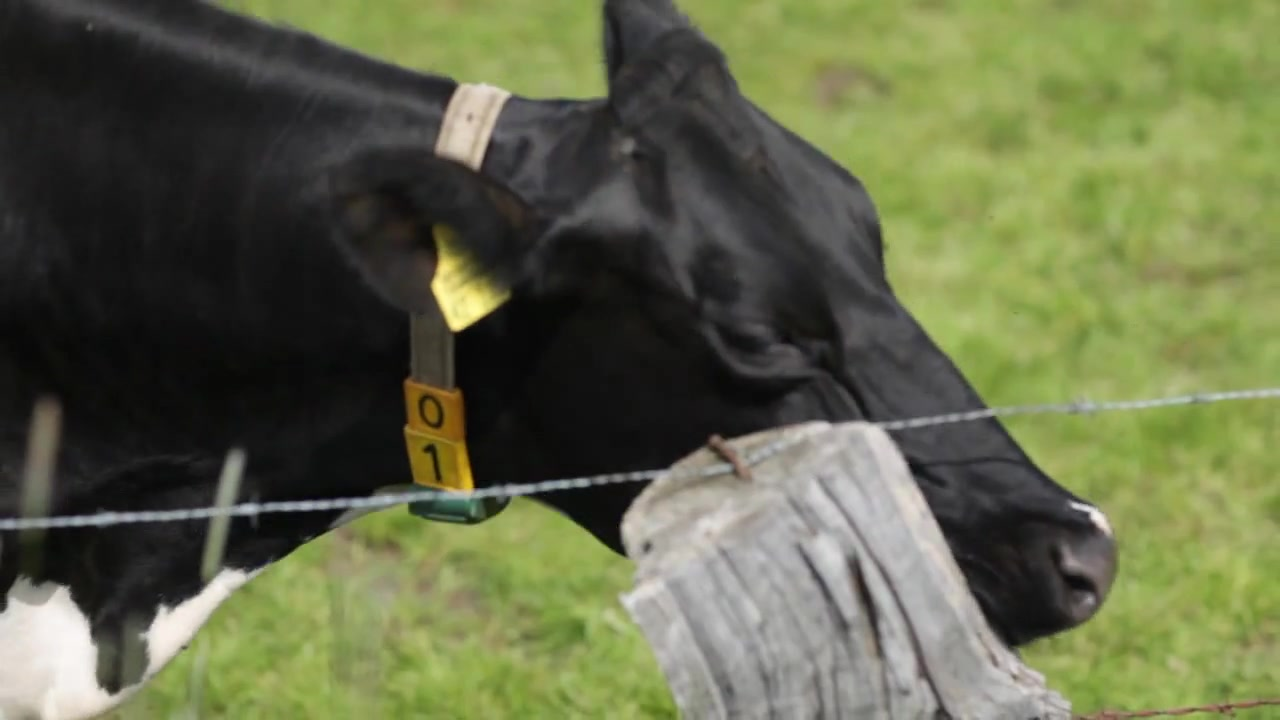cow: (1, 1, 1121, 720)
